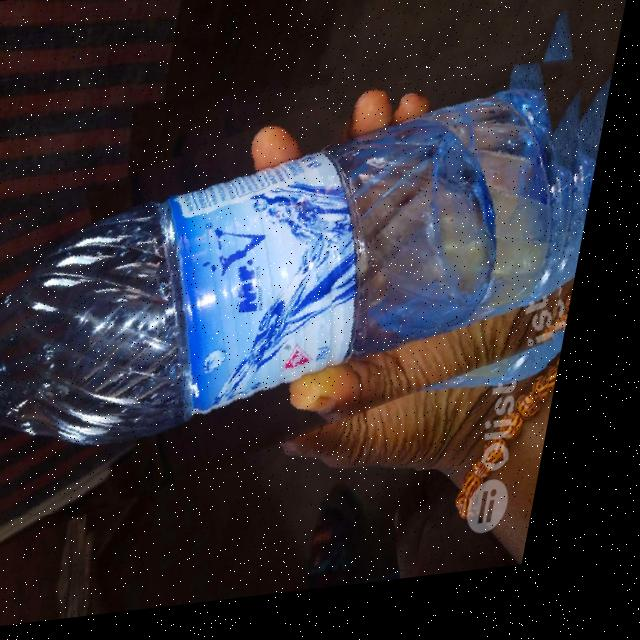litter: (0, 59, 623, 531)
